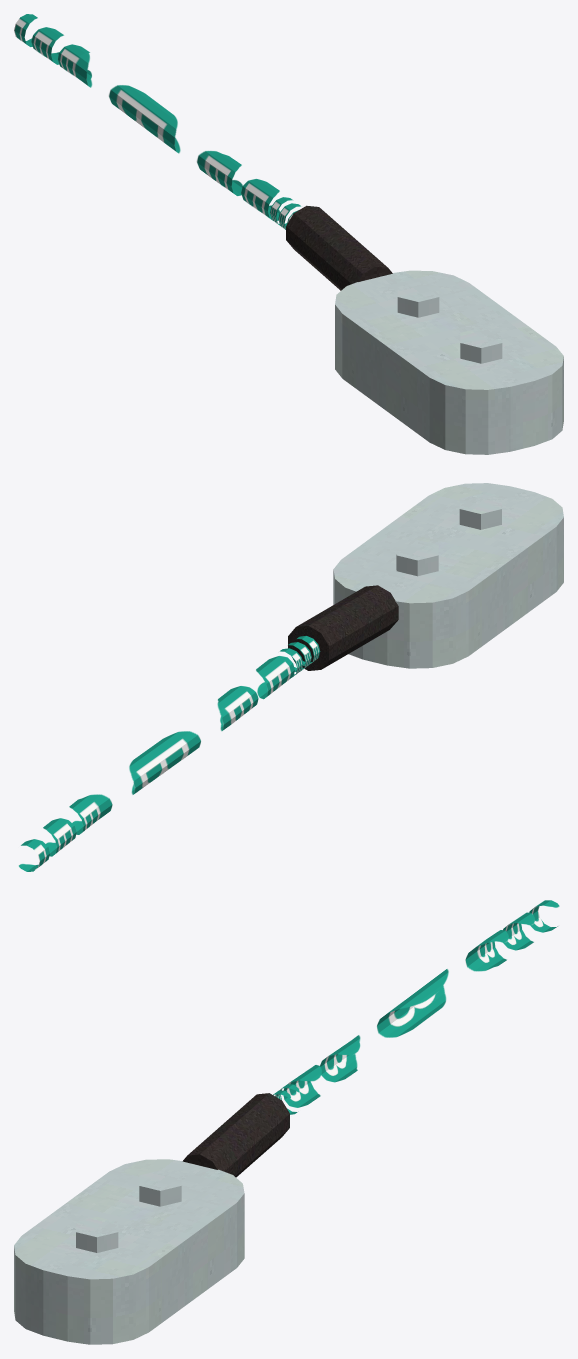
File: jdt002-geode.glb
3 views of the same model, one above another, from view 1: azimuth 30°, elevation 25°; view 2: azimuth 150°, elevation 25°; view 3: azimuth 330°, elevation 25° (orthographic).
Parts seen in each view (by area): view 1: Node; view 2: Node; view 3: Node.
Boxes of the visible parts, x1,y1,x2,y2 form: Node: (14, 14, 563, 454); Node: (18, 483, 563, 871); Node: (14, 900, 559, 1344).
Size of the model in its own units: 0.06 by 0.0396 by 0.405.
Materials: 3 (3 with a texture image).
